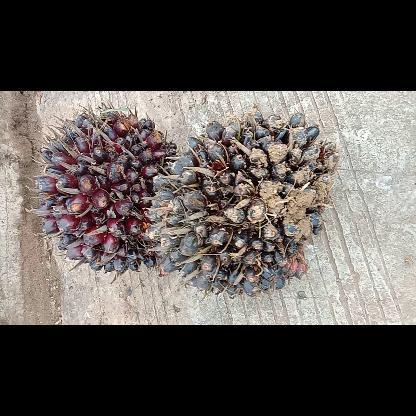TBS mentah: (146, 105, 342, 299), (29, 106, 177, 276)
